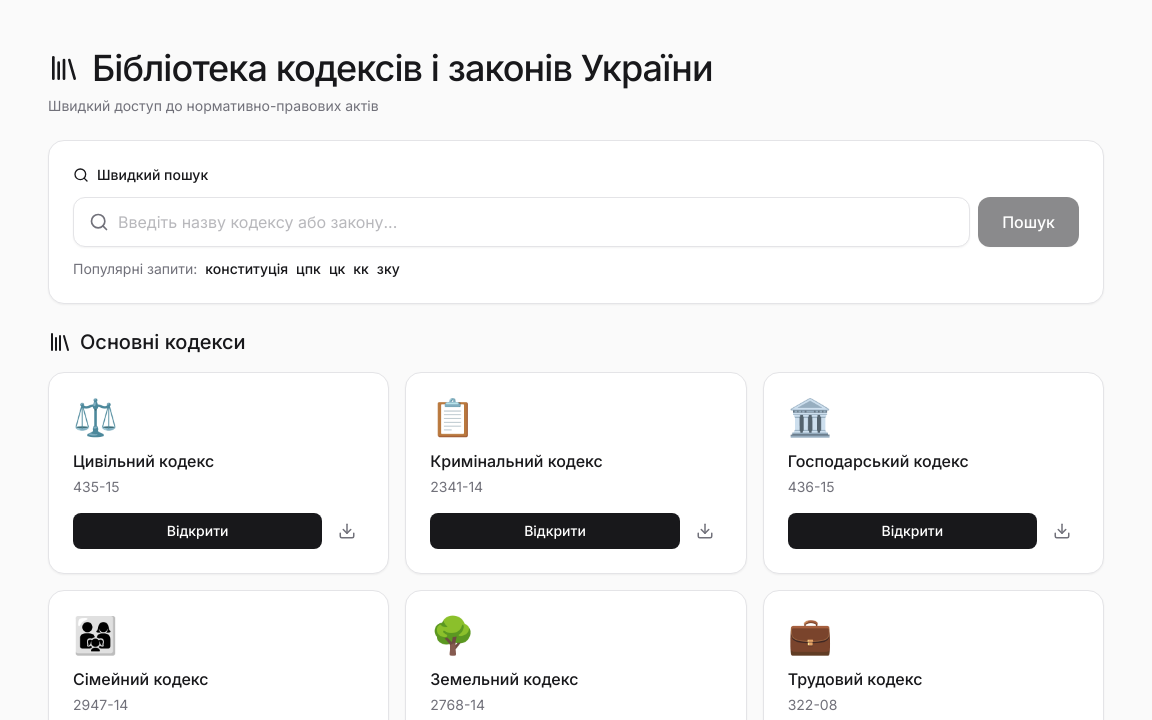
Test: LegalCodesLibraryPage › Code viewer › shows table of contents with sections
What coordinates should you click on to do the following:
click the button "Відкрити" below "435-15"
I would click on:
 (198, 531)
Its box is [73,513,322,549].
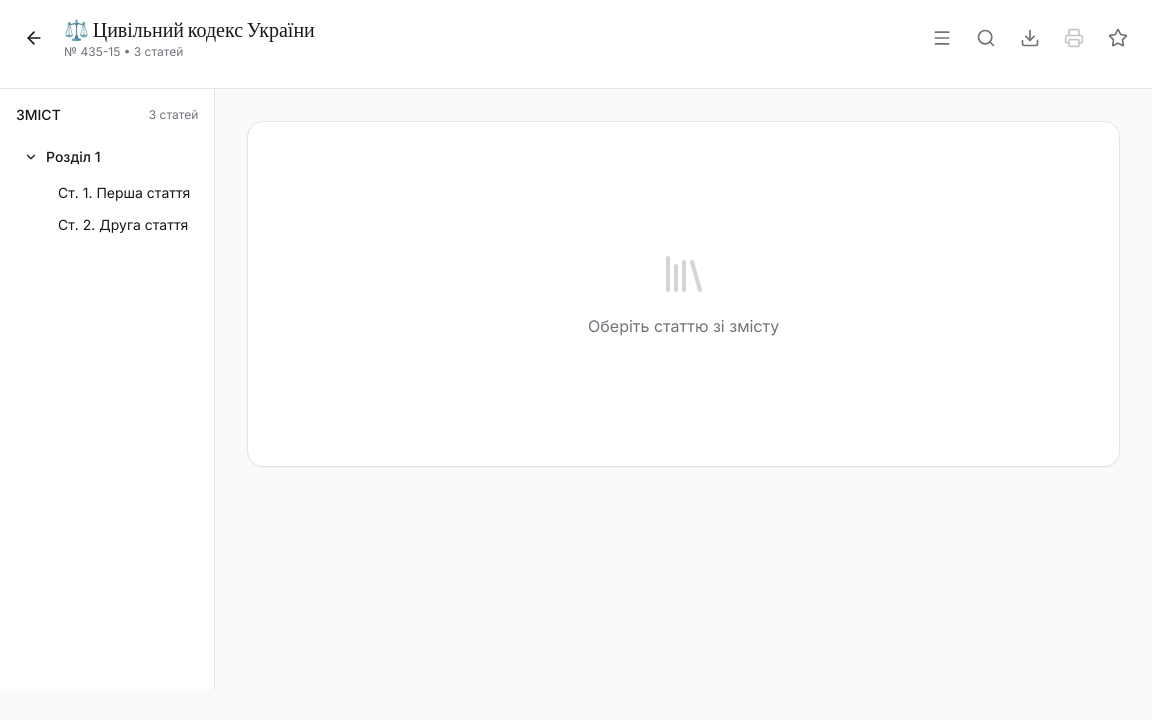
Check: the heading "⚖️ Цивільний кодекс України" is shown, box [64,16,315,44]
Check: the heading "ЗМІСТ" is shown, box [16,105,61,125]
Check: the text "3 статей" is shown, box [149,107,198,123]
